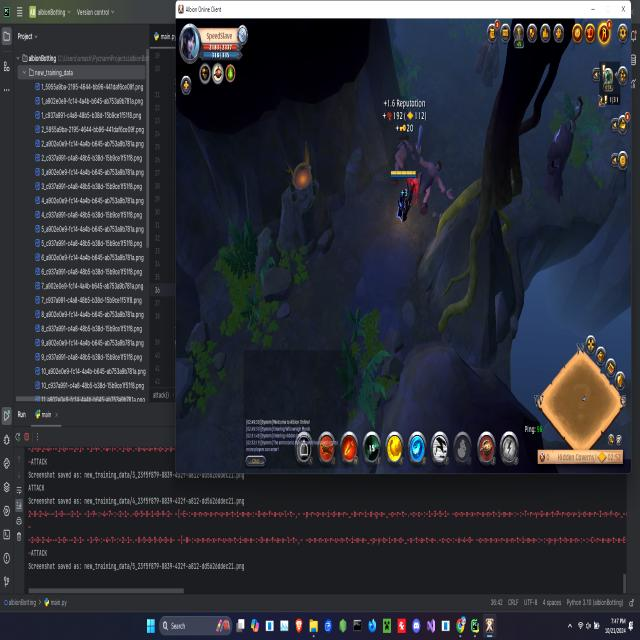ore: (542, 96, 589, 207), (475, 28, 503, 93)
red: (389, 166, 420, 223)
